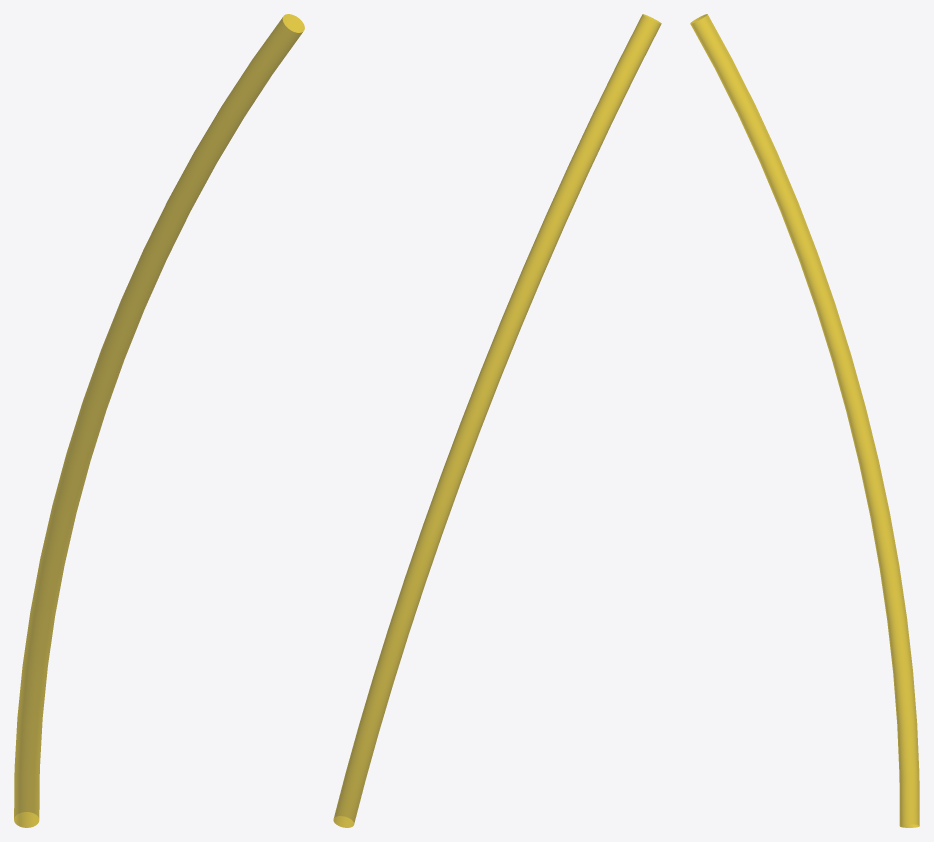
File: Event_40932208_track_11.fbx
3 views of the same model, side by side, from view 1: azimuth 90°, elevation 25°; view 2: azimuth 150°, elevation 25°; view 3: azimuth 270°, elevation 25° (orthographic). The views are drawn at different scales.
Visible parts, largest first — view 1: Model; view 2: Model; view 3: Model.
Boxes of the visible parts, x1,y1,x2,y2 form: Model: (14, 14, 304, 827); Model: (333, 14, 661, 827); Model: (690, 14, 919, 827).
Size of the model in its own units: 0.4601 by 1.6 by 0.4588.
